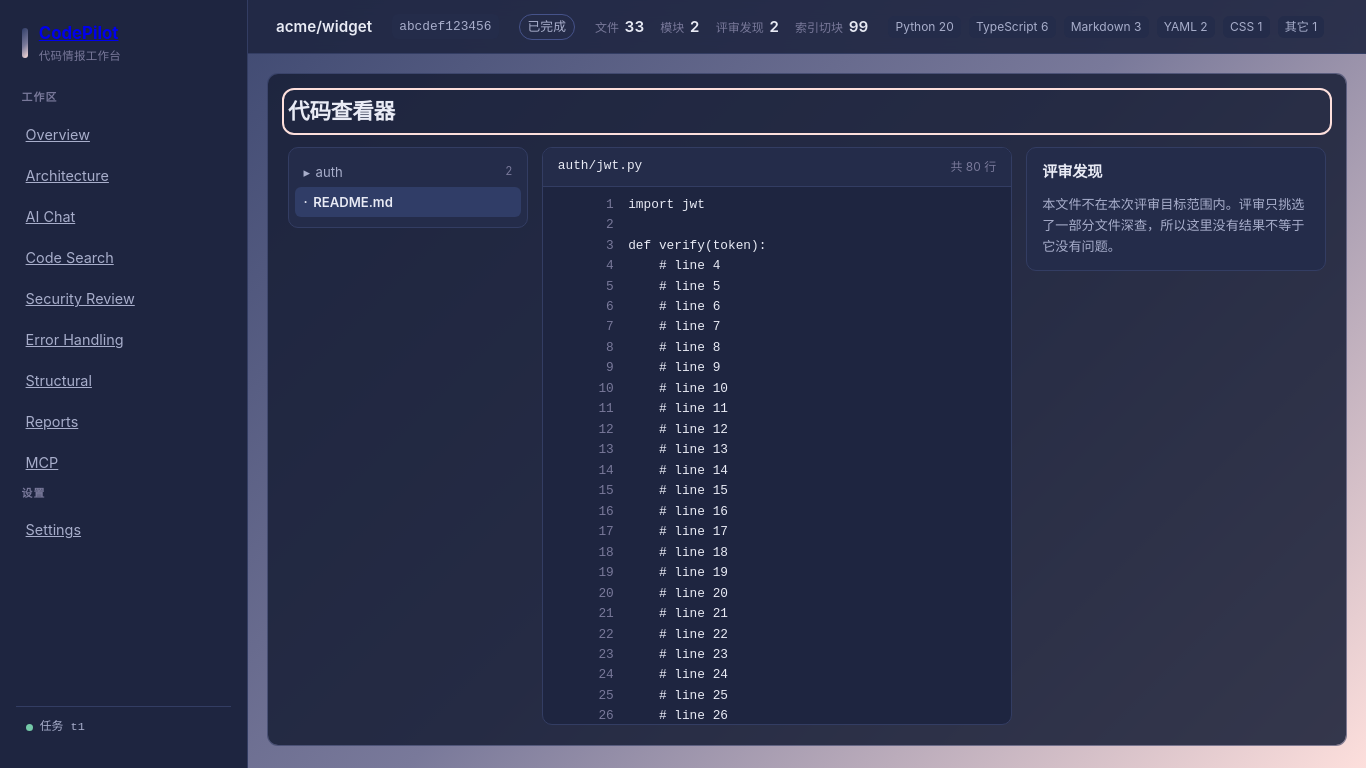
Test: 错误与边界 › 文件树目录可展开收起，当前文件高亮
Click the button "▸ auth 2": (408, 172) left=295, top=157, right=521, bottom=187
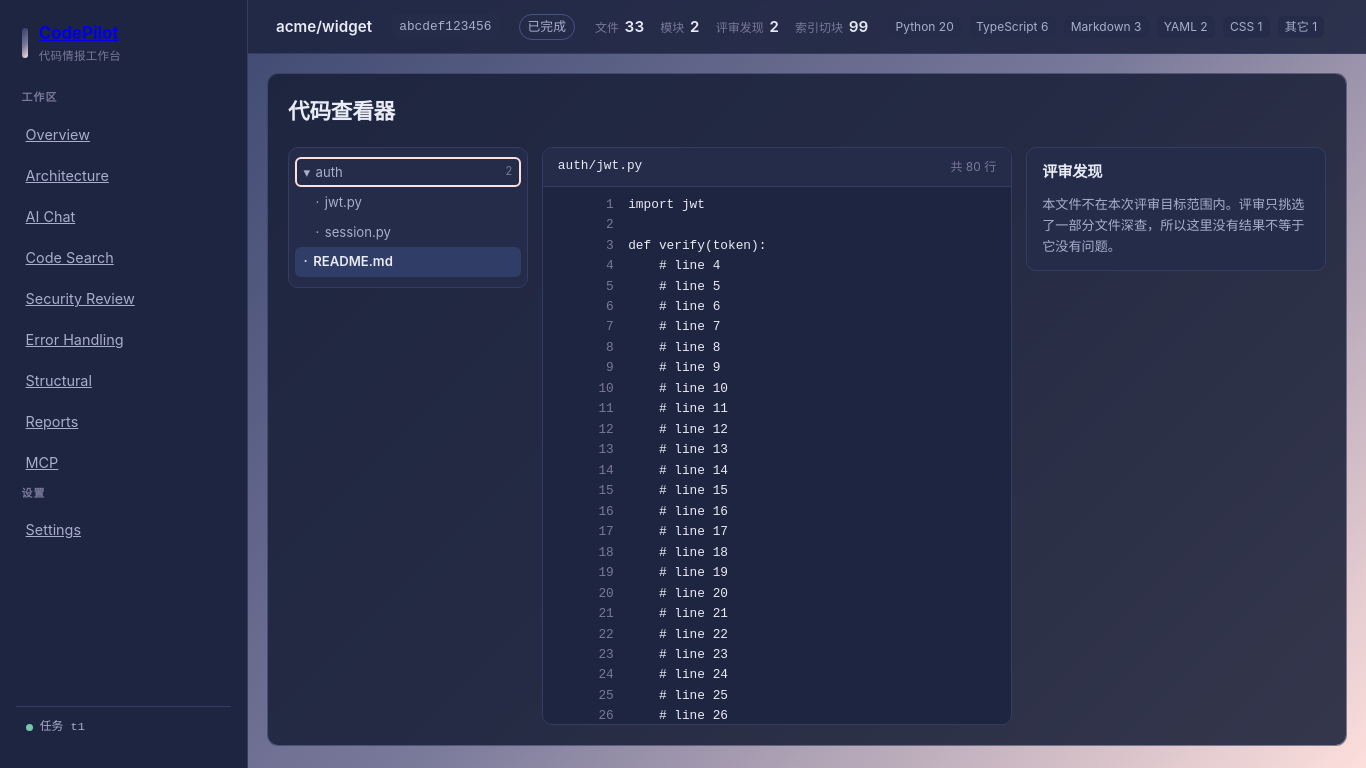
Now the button "▾ auth 2" is expanded, box left=295, top=157, right=521, bottom=187
